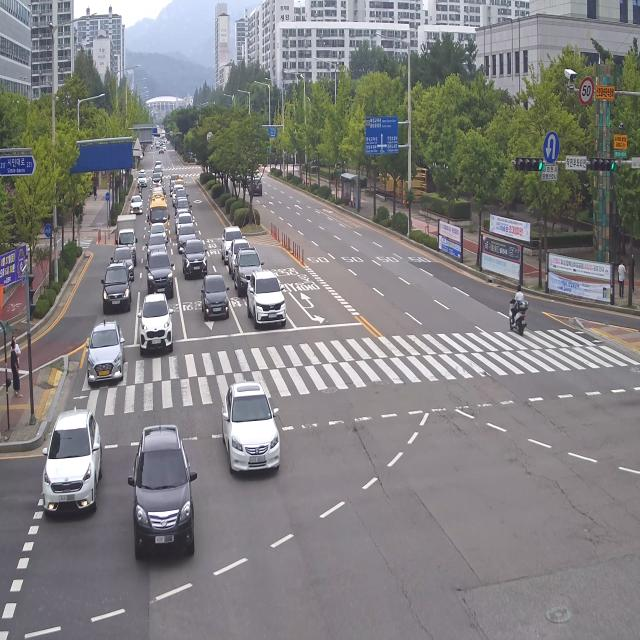Bus: (139, 187, 174, 245)
Car: (130, 424, 204, 576), (30, 384, 104, 532), (217, 375, 286, 500), (82, 312, 129, 393), (136, 290, 178, 364), (243, 260, 283, 333), (98, 252, 133, 315), (195, 266, 227, 325), (178, 233, 210, 281), (144, 254, 178, 297)
Motorcycle: (498, 270, 533, 346)
Truck: (109, 210, 140, 270)
